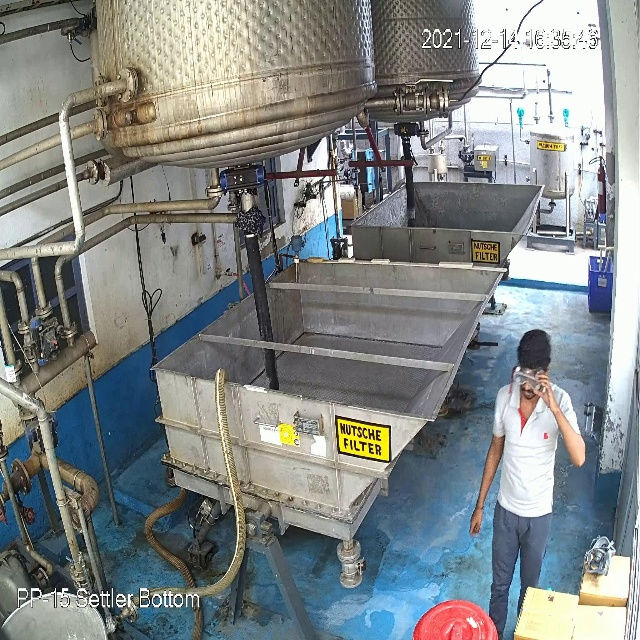Gafas: (509, 365, 545, 393)
Sin_mascara: (515, 380, 541, 404)
